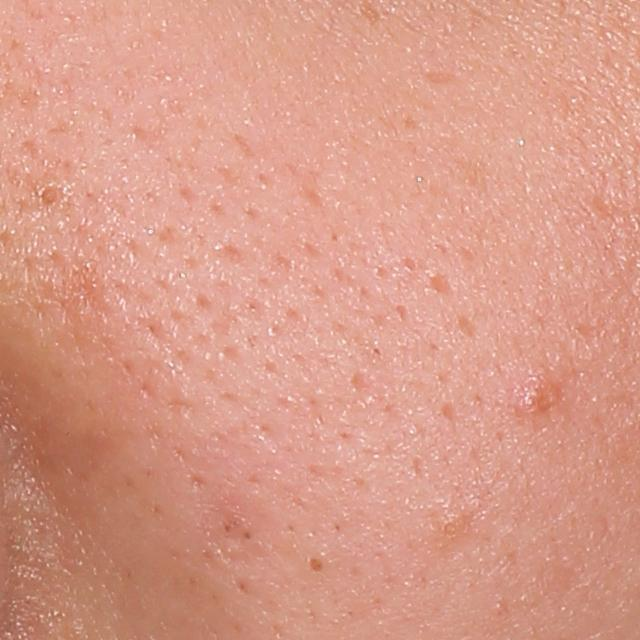atrophic_scar: (427, 270, 457, 300), (454, 314, 480, 342), (440, 400, 459, 428)
comedo: (35, 180, 71, 214), (437, 514, 465, 546), (303, 550, 328, 577)
